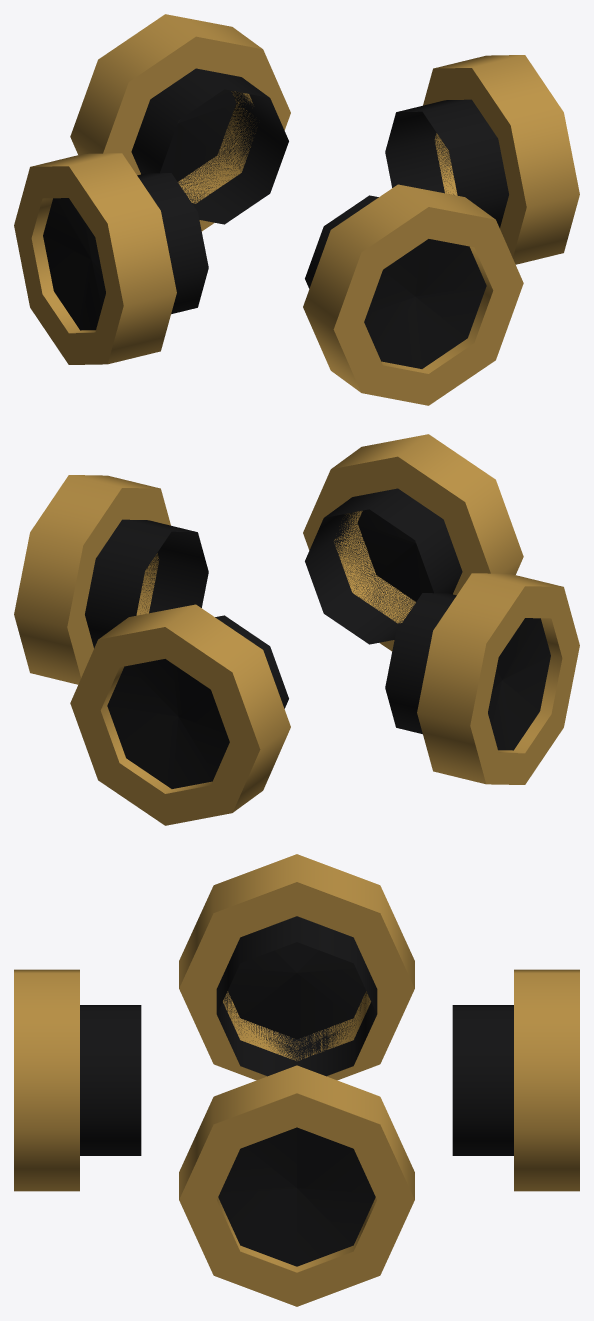
The model's file is rcs4_emitter.obj.
3 renders of one model, top to bottom at view 1: azimuth 30°, elevation 25°; view 2: azimuth 150°, elevation 25°; view 3: azimuth 270°, elevation 25°, orthographic. The views are drawn at different scales.
Parts seen in each view (by area): view 1: rcs4_emitter; view 2: rcs4_emitter; view 3: rcs4_emitter.
Part boxes in pixels (<box>): rcs4_emitter: <box>14,14,579,405</box>; rcs4_emitter: <box>14,434,579,825</box>; rcs4_emitter: <box>14,854,579,1306</box>.
Size of the model in its own units: 1.2 by 0.5 by 1.2.
